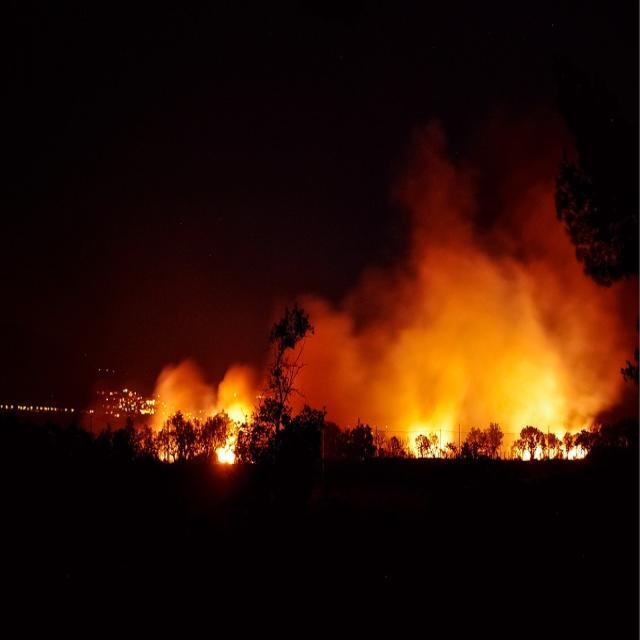Fire: (174, 394, 588, 468)
Smoke: (91, 112, 640, 468)
